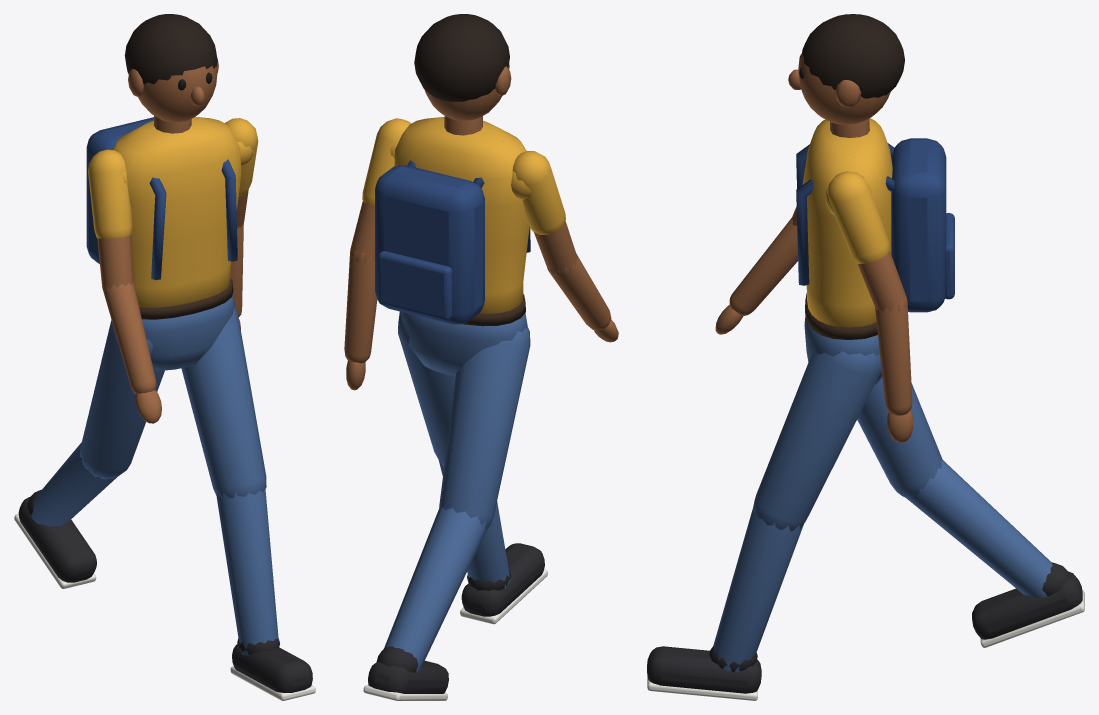
Rendered from walker_mustard.fbx.
3 renders of one model, left to right at view 1: azimuth 30°, elevation 25°; view 2: azimuth 150°, elevation 25°; view 3: azimuth 270°, elevation 25°, orthographic. The views are drawn at different scales.
Parts seen in each view (by area): view 1: walker_mustard; view 2: walker_mustard; view 3: walker_mustard.
Part boxes in pixels (left/top/right/bottom): walker_mustard: left=14, top=14, right=315, bottom=700; walker_mustard: left=344, top=14, right=618, bottom=700; walker_mustard: left=647, top=14, right=1084, bottom=700.
Bounding box in the file's own units: 0.5247 × 1.72 × 1.03.
